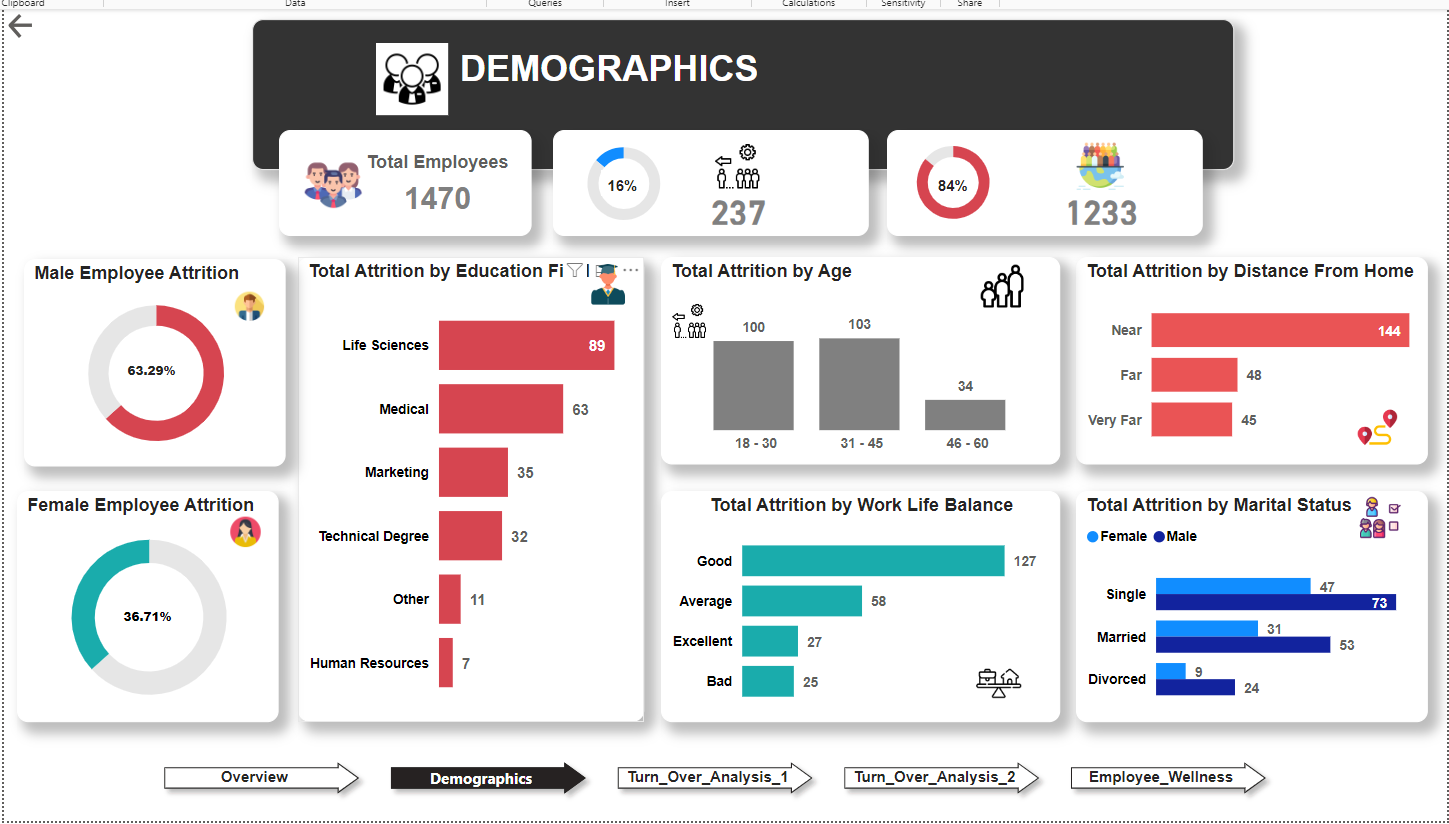

The page's visual inventory and layout, read from the dashboard file:
{"tool":"powerbi","page":{"name":"Demographics","canvas":[1280,720],"ordinal":1},"visuals":[{"type":"textbox","box":[219.7,8.7,870.8,134.1],"z":0},{"type":"image","box":[329.5,30.1,64.1,64.1],"z":1000},{"type":"cardVisual","fields":{"Data":["Sum(HR-Employee-Attrition.EmployeeCount)"]},"box":[243.9,106.9,223.5,94.3],"z":2000},{"type":"shape","box":[486.9,106.9,279.9,94.3],"z":3000},{"type":"donutChart","fields":{"Y":["Sum(HR-Employee-Attrition.Attrition Count)","Sum(HR-Employee-Attrition.EmployeeCount)"]},"box":[495.6,113.7,105.9,80.7],"z":4000},{"type":"card","fields":{"Values":["HR-Employee-Attrition.AttritionRate"]},"box":[529.7,142.9,37.9,23.3],"z":5000},{"type":"shape","box":[783.3,106.9,279.9,94.3],"z":6000},{"type":"donutChart","fields":{"Y":["Sum(HR-Employee-Attrition.Attrition Count)","Sum(HR-Employee-Attrition.EmployeeCount)"]},"box":[789.2,113.7,105,80.7],"z":7000},{"type":"card","fields":{"Values":["HR-Employee-Attrition.AERate"]},"box":[823.2,142.9,36.9,23.3],"z":8000},{"type":"image","box":[601.6,113.7,98.2,52.5],"z":9000},{"type":"card","fields":{"Values":["Sum(HR-Employee-Attrition.Attrition Count)"]},"box":[597.7,161.3,106.9,35],"z":10000},{"type":"card","fields":{"Values":["HR-Employee-Attrition.Active Employee"]},"box":[919.4,161.3,106.9,35],"z":11000},{"type":"image","box":[923.3,113.7,98.2,52.5],"z":12000},{"type":"barChart","title":"Total Attrition by Education Field","fields":{"Category":["HR-Employee-Attrition.EducationField"],"Y":["Sum(HR-Employee-Attrition.Attrition Count)"]},"box":[260.7,219.9,306.8,412.3],"z":13000},{"type":"barChart","title":"Total Attrition by Work Life Balance","fields":{"Category":["HR-Employee-Attrition.WorkLifeBalance (groups)"],"Y":["Sum(HR-Employee-Attrition.Attrition Count)"]},"box":[582.6,427.4,353.8,204.8],"z":14000},{"type":"image","box":[845,572.8,74.5,49.7],"z":15000},{"type":"barChart","title":"Total Attrition by Distance From Home","fields":{"Category":["HR-Employee-Attrition.DistanceFromHome (groups)"],"Y":["Sum(HR-Employee-Attrition.Attrition Count)"]},"box":[950.5,219.9,312.1,183.5],"z":16000},{"type":"image","box":[1179.3,348.5,76.3,45.2],"z":17000},{"type":"columnChart","title":"Total  Attrition by Age","fields":{"Y":["Sum(HR-Employee-Attrition.Attrition Count)"],"Category":["HR-Employee-Attrition.Age (groups)"]},"box":[582.6,219.9,353.8,183.5],"z":18000},{"type":"clusteredBarChart","title":"Total Attrition by Marital Status","fields":{"Category":["HR-Employee-Attrition.MaritalStatus"],"Y":["Sum(HR-Employee-Attrition.Attrition Count)"],"Series":["HR-Employee-Attrition.Gender"]},"box":[950.5,427.4,312.1,204.8],"z":19000},{"type":"image","box":[1183.7,427.4,71.8,47],"z":20000},{"type":"donutChart","title":"Male Employee Attrition ","fields":{"Category":["HR-Employee-Attrition.Gender"],"Y":["Sum(HR-Employee-Attrition.Attrition Count)"]},"box":[17.7,221.7,232.3,183.5],"z":21000},{"type":"donutChart","title":"Female Employee Attrition","fields":{"Category":["HR-Employee-Attrition.Gender"],"Y":["Sum(HR-Employee-Attrition.Attrition Count)"]},"box":[11.5,427.4,232.3,204.8],"z":22000},{"type":"image","box":[190.6,445.1,46.1,37.2],"z":23000},{"type":"image","box":[190.6,245.6,53.2,36.4],"z":24000},{"type":"image","box":[844.6,221.6,78.7,47.6],"z":25000},{"type":"image","box":[582.2,255.6,49.6,41.8],"z":26000},{"type":"image","box":[503.4,219.7,64.1,47.6],"z":27000},{"type":"card","fields":{"Values":["HR-Employee-Attrition.MaleAtrPercentage"]},"box":[102.9,297,55.9,51.4],"z":28000},{"type":"card","fields":{"Values":["HR-Employee-Attrition.FemaleAtrPercentage"]},"box":[95.8,509,63,63.8],"z":29000},{"type":"pageNavigator","box":[133,658.8,998.4,46.1],"z":30000},{"type":"actionButton","box":[0,0,69.2,30.1],"z":31000}]}

Visuals, with their boxes on the page's 1280x720 design canvas (x1, y1, x2, y2). These are canvas units, not pixel positions in the 1449x824 screenshot, which may show the page scaled, cropped or inside an application window:
textbox: [220,9,1090,143]
image: [330,30,394,94]
cardVisual - Sum(HR-Employee-Attrition.EmployeeCount): [244,107,467,201]
shape: [487,107,767,201]
donutChart - Sum(HR-Employee-Attrition.Attrition Count) x Sum(HR-Employee-Attrition.EmployeeCount): [496,114,602,194]
card - HR-Employee-Attrition.AttritionRate: [530,143,568,166]
shape: [783,107,1063,201]
donutChart - Sum(HR-Employee-Attrition.Attrition Count) x Sum(HR-Employee-Attrition.EmployeeCount): [789,114,894,194]
card - HR-Employee-Attrition.AERate: [823,143,860,166]
image: [602,114,700,166]
card - Sum(HR-Employee-Attrition.Attrition Count): [598,161,705,196]
card - HR-Employee-Attrition.Active Employee: [919,161,1026,196]
image: [923,114,1022,166]
"Total Attrition by Education Field" barChart: [261,220,568,632]
"Total Attrition by Work Life Balance" barChart: [583,427,936,632]
image: [845,573,920,622]
"Total Attrition by Distance From Home" barChart: [950,220,1263,403]
image: [1179,348,1256,394]
"Total  Attrition by Age" columnChart: [583,220,936,403]
"Total Attrition by Marital Status" clusteredBarChart: [950,427,1263,632]
image: [1184,427,1256,474]
"Male Employee Attrition " donutChart: [18,222,250,405]
"Female Employee Attrition" donutChart: [12,427,244,632]
image: [191,445,237,482]
image: [191,246,244,282]
image: [845,222,923,269]
image: [582,256,632,297]
image: [503,220,568,267]
card - HR-Employee-Attrition.MaleAtrPercentage: [103,297,159,348]
card - HR-Employee-Attrition.FemaleAtrPercentage: [96,509,159,573]
pageNavigator: [133,659,1131,705]
actionButton: [0,0,69,30]
